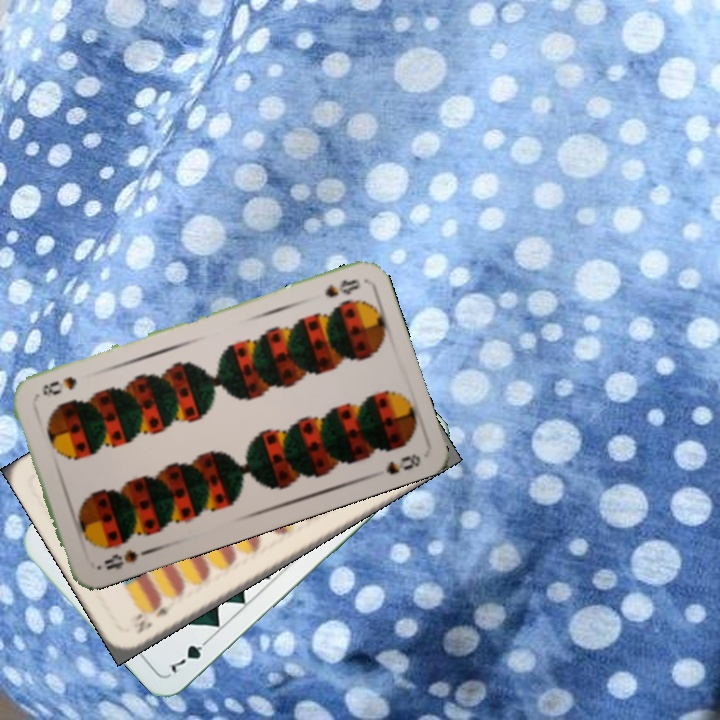E10: (132, 597, 179, 637)
G7: (167, 632, 214, 677)
S8: (100, 546, 149, 573), (320, 275, 363, 301)
